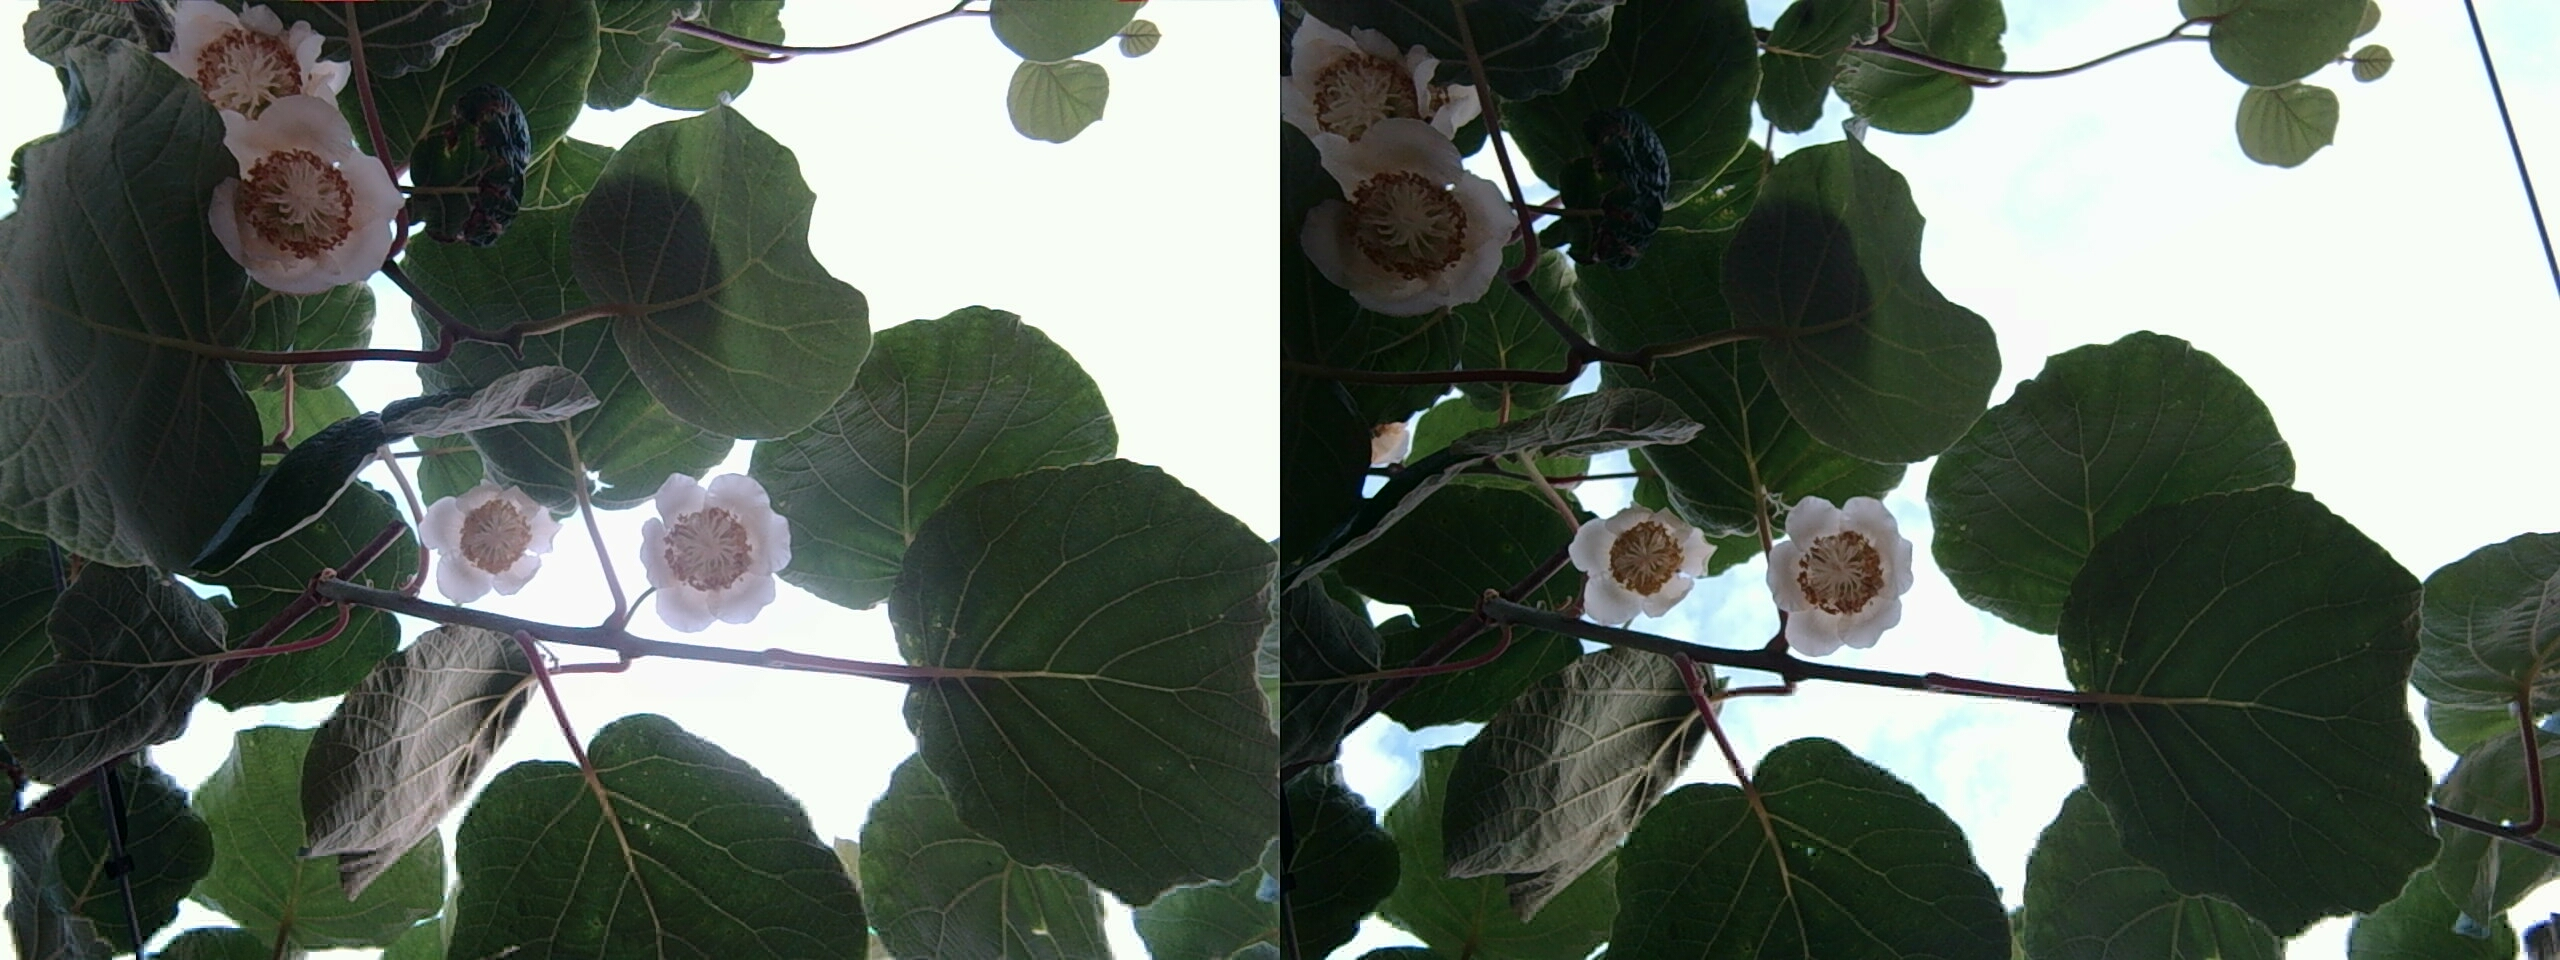flower: (1291, 109, 1523, 317), (199, 87, 410, 292), (629, 459, 793, 620), (1758, 487, 1918, 650), (176, 11, 343, 121), (1561, 504, 1711, 620), (1296, 24, 1443, 139), (421, 478, 565, 588)
